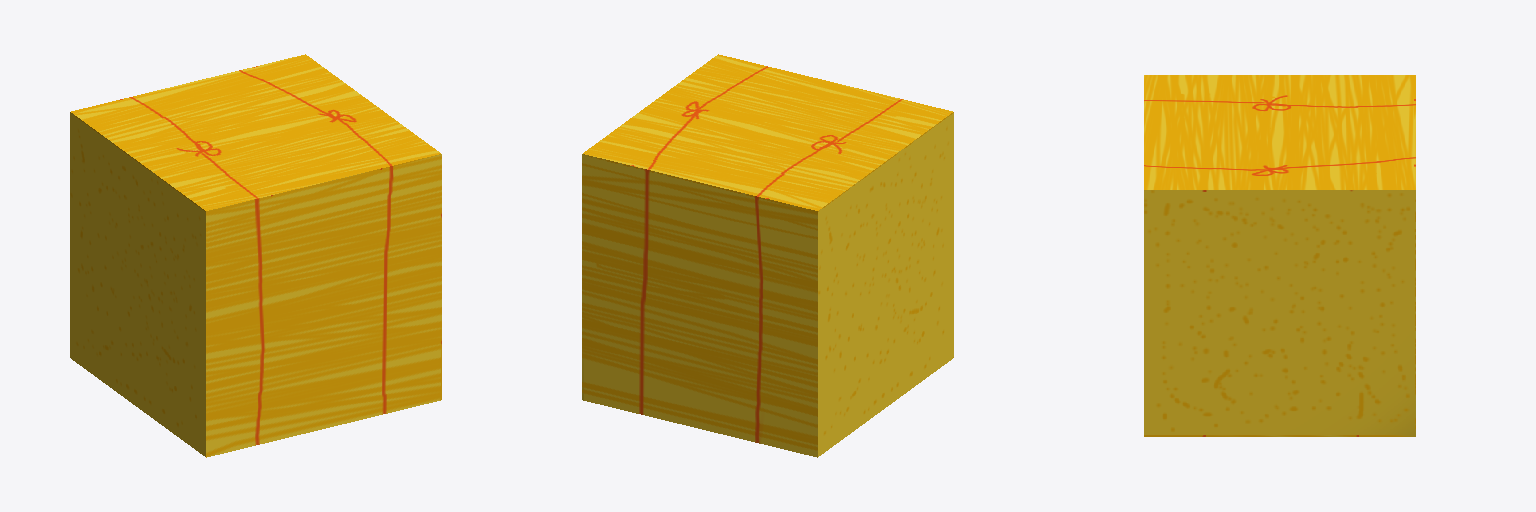
3 renders of one model, left to right at view 1: azimuth 30°, elevation 25°; view 2: azimuth 150°, elevation 25°; view 3: azimuth 270°, elevation 25°, orthographic.
Parts seen in each view (by area): view 1: Cube; view 2: Cube; view 3: Cube.
Part boxes in pixels (x1,y1,x2,y2): Cube: (70,54,441,457); Cube: (582,54,953,457); Cube: (1144,75,1415,436).
Size of the model in its own units: 1.1 by 1.1 by 1.1.
1 materials, 1 textured.